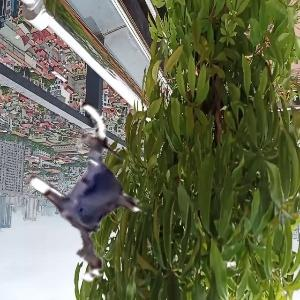drone: (3, 108, 177, 282)
